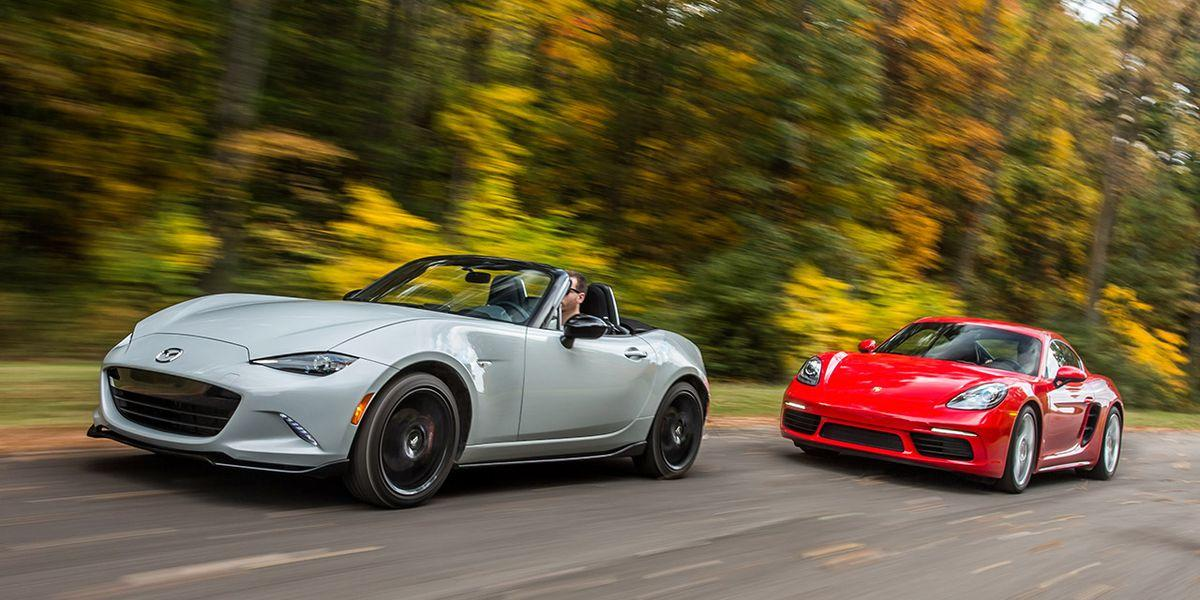car: (47, 190, 725, 563), (763, 236, 1155, 548)
